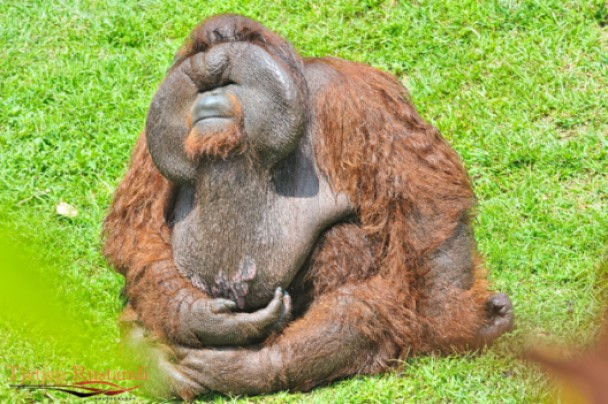Orangutan: (138, 29, 492, 364)
